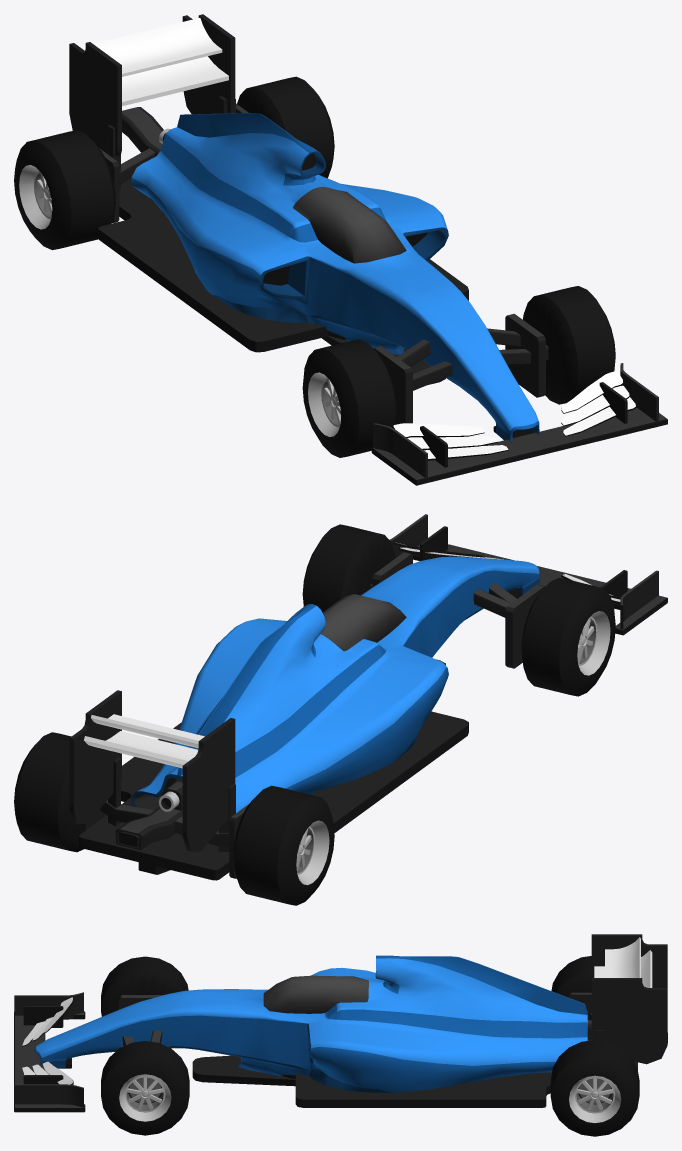
The model's file is F1SaiChe00.fbx.
3 views of the same model, one above another, from view 1: azimuth 30°, elevation 25°; view 2: azimuth 150°, elevation 25°; view 3: azimuth 270°, elevation 25° (orthographic). The views are drawn at different scales.
Visible parts, largest first — view 1: F1SaiChe00; view 2: F1SaiChe00; view 3: F1SaiChe00.
Part boxes in pixels (<box>): F1SaiChe00: <box>14,14,667,485</box>; F1SaiChe00: <box>14,514,667,905</box>; F1SaiChe00: <box>14,934,667,1136</box>.
Bounding box in the file's own units: 386 × 220 × 1000.
